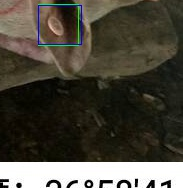text: (38, 4, 78, 45)
